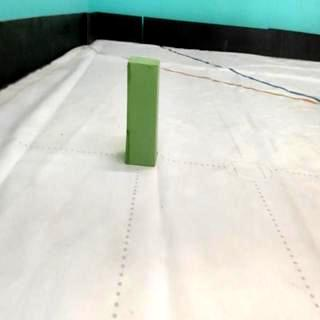greenbox: (123, 54, 163, 170)
